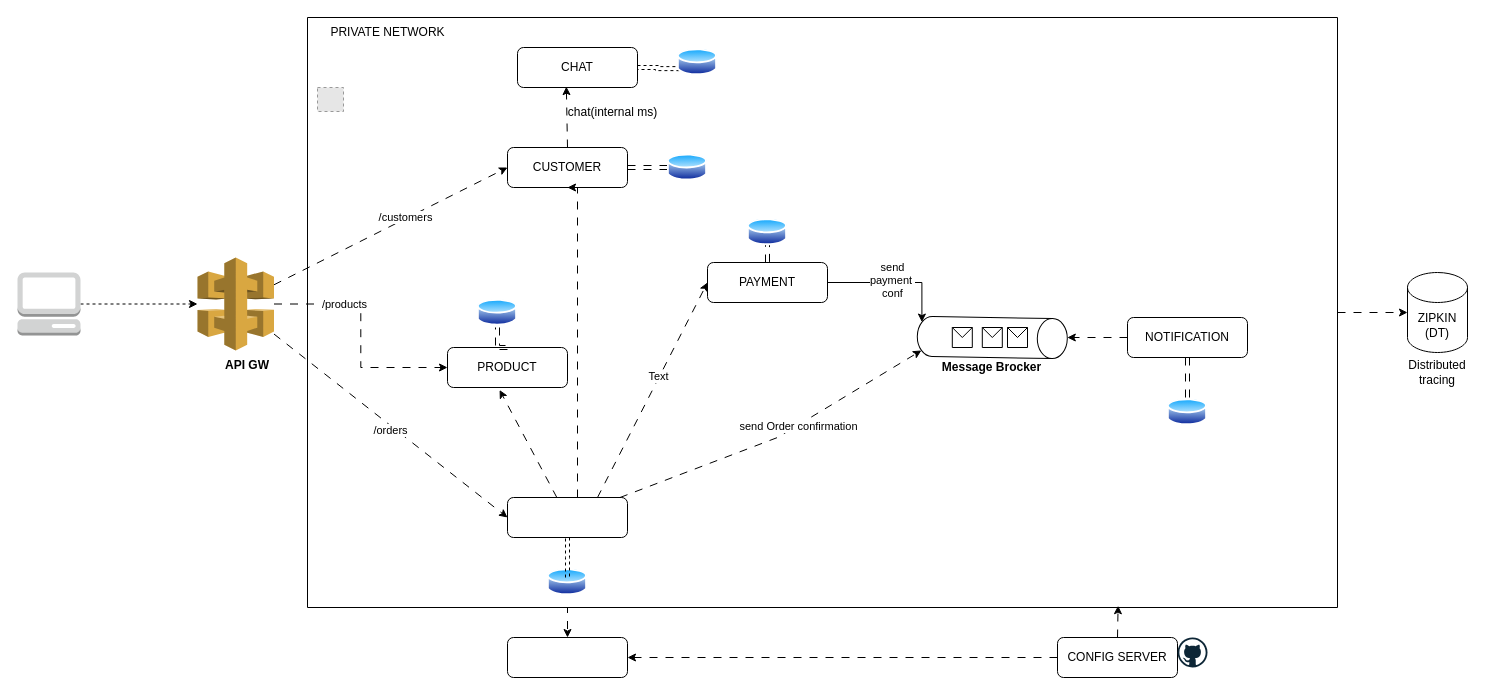
This 1485x695 diagram has some shape labels left out. Grey dashed boxes stand in for pictures. Here are the shapes that lost their labels. From the top down, the centre of each, then its label:
point 48,304: client
point 567,517: ORDER
point 567,657: SERVICE REGISTRY
